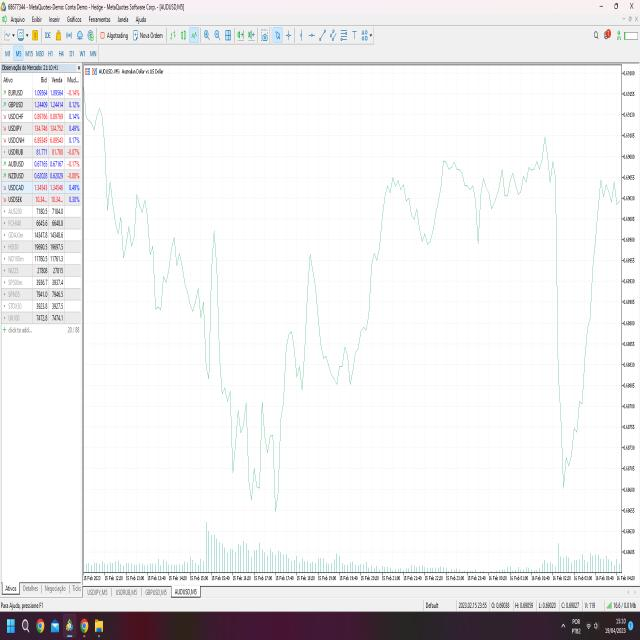fundo_duplo: (316, 289, 372, 404)
oco_inv: (213, 308, 296, 531)
